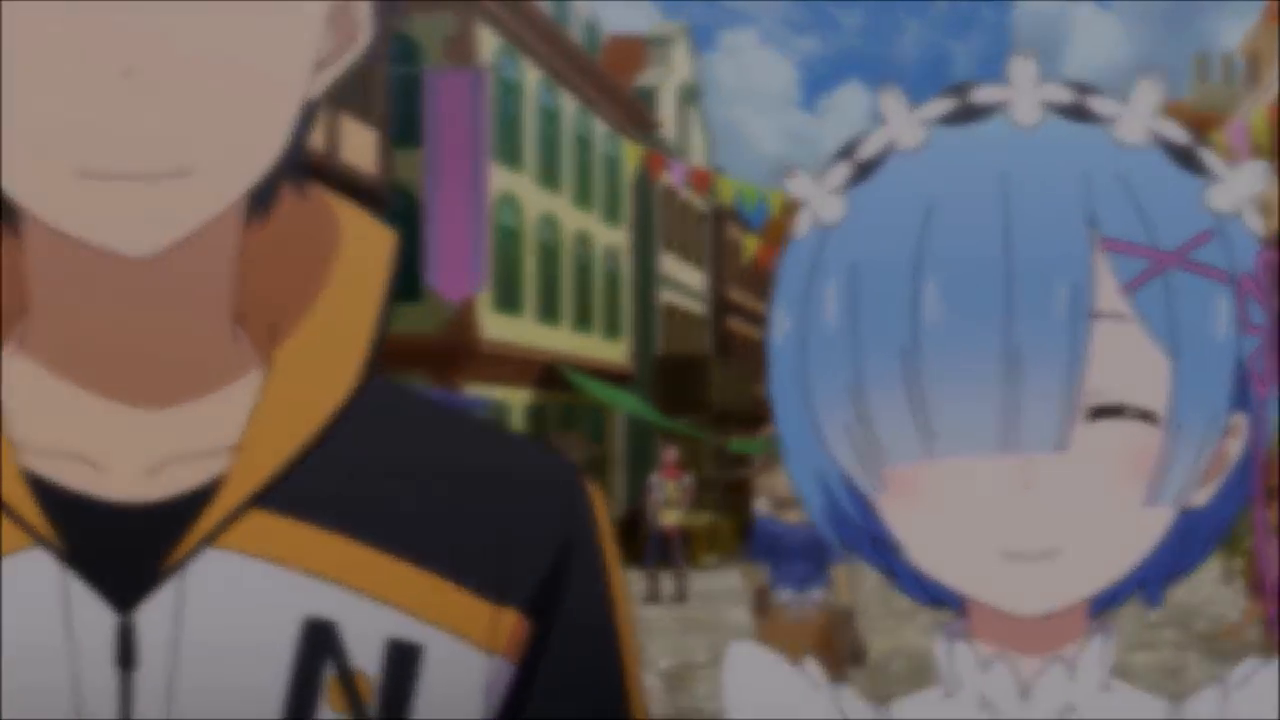REM: (766, 75, 1269, 618)
